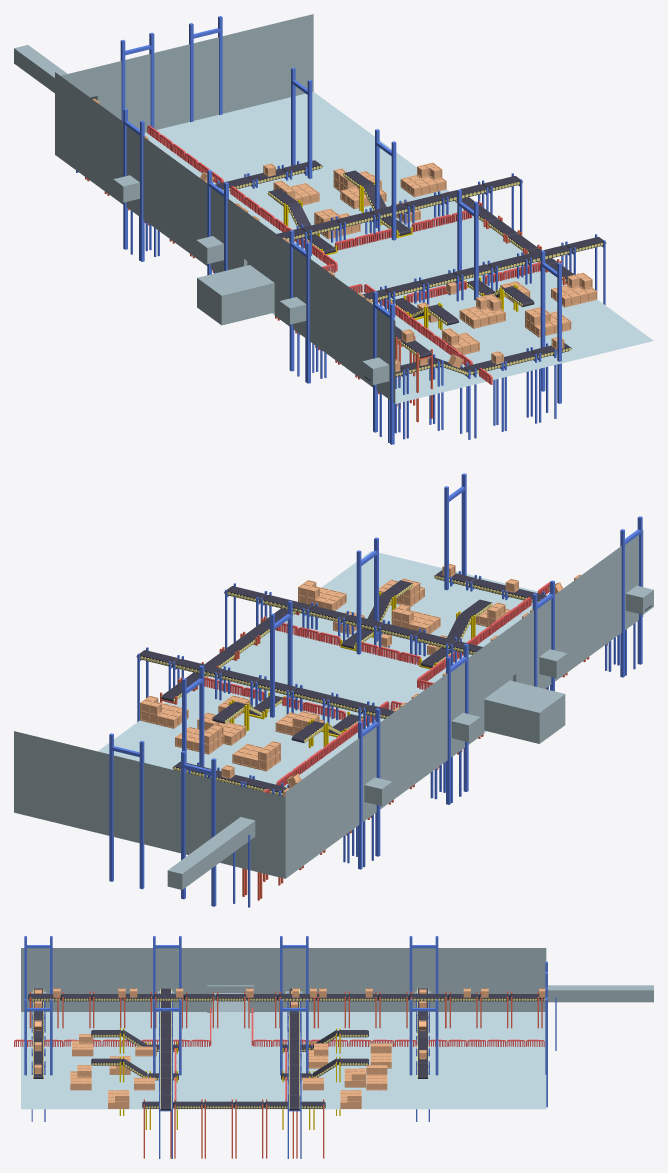
Rendered from Environment1Base 1.fbx.
The picture shows the model from 3 angles, top to bottom: view 1: azimuth 30°, elevation 25°; view 2: azimuth 150°, elevation 25°; view 3: azimuth 270°, elevation 25°; orthographic projection. The views are drawn at different scales.
Parts seen in each view (by area): view 1: Walls_Floors, MetalBar_62, MetalBar_64, MetalBar_66, MetalBar_63, MetalBar_59, MetalBar_60, MetalBar_57, MetalBar_61, MetalBar_58, MetalBar_65; view 2: Walls_Floors, MetalBar_58, MetalBar_66, MetalBar_57, MetalBar_63, MetalBar_65, MetalBar_62, MetalBar_61, MetalBar_60, MetalBar_59, MetalBar_64; view 3: Walls_Floors, MetalBar_59, MetalBar_62, MetalBar_61, MetalBar_66, MetalBar_60, MetalBar_63, MetalBar_65, MetalBar_64.
Part boxes in pixels (x1=…): Walls_Floors: x1=14, y1=14, x2=653, y2=403; MetalBar_62: x1=540, y1=250, x2=561, y2=403; MetalBar_64: x1=289, y1=230, x2=310, y2=383; MetalBar_66: x1=123, y1=108, x2=144, y2=261; MetalBar_63: x1=373, y1=291, x2=394, y2=444; MetalBar_59: x1=291, y1=67, x2=312, y2=178; MetalBar_60: x1=375, y1=129, x2=396, y2=240; MetalBar_57: x1=120, y1=32, x2=154, y2=128; MetalBar_61: x1=457, y1=189, x2=478, y2=300; MetalBar_58: x1=189, y1=16, x2=222, y2=122; MetalBar_65: x1=207, y1=170, x2=228, y2=275; Walls_Floors: x1=14, y1=530, x2=653, y2=889; MetalBar_58: x1=109, y1=733, x2=144, y2=889; MetalBar_66: x1=358, y1=708, x2=380, y2=869; MetalBar_57: x1=181, y1=751, x2=216, y2=906; MetalBar_63: x1=620, y1=516, x2=642, y2=677; MetalBar_65: x1=446, y1=643, x2=468, y2=804; MetalBar_62: x1=444, y1=473, x2=466, y2=590; MetalBar_61: x1=356, y1=537, x2=378, y2=654; MetalBar_60: x1=270, y1=600, x2=292, y2=717; MetalBar_59: x1=182, y1=665, x2=204, y2=772; MetalBar_64: x1=532, y1=580, x2=554, y2=691; Walls_Floors: x1=21, y1=948, x2=653, y2=1109; MetalBar_59: x1=409, y1=999, x2=438, y2=1075; MetalBar_62: x1=24, y1=999, x2=52, y2=1075; MetalBar_61: x1=153, y1=999, x2=181, y2=1075; MetalBar_66: x1=409, y1=936, x2=438, y2=993; MetalBar_60: x1=280, y1=999, x2=308, y2=1075; MetalBar_63: x1=24, y1=936, x2=52, y2=999; MetalBar_65: x1=280, y1=936, x2=308, y2=993; MetalBar_64: x1=153, y1=936, x2=181, y2=998.
Bounding box in the file's own units: 416 × 180 × 849.
